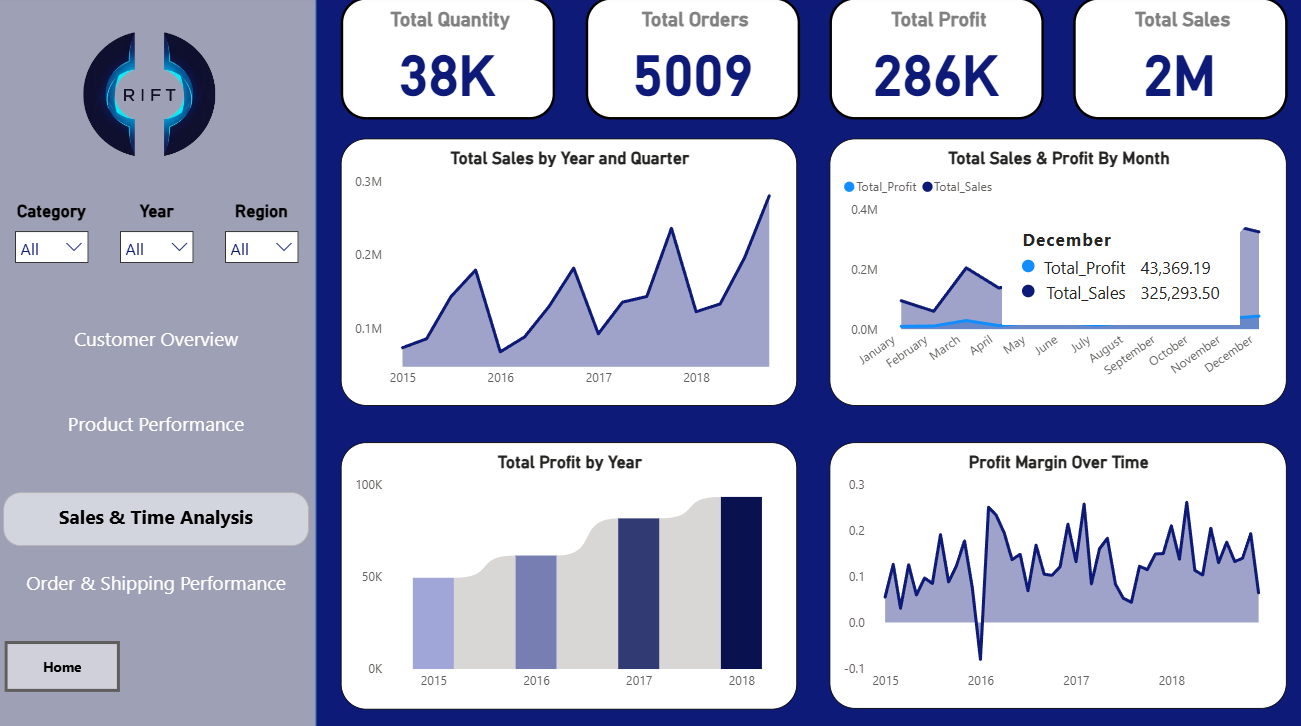

The page's visual inventory and layout, read from the dashboard file:
{"tool":"powerbi","page":{"name":"Sales & Time Analysis","canvas":[1280,720],"ordinal":3},"visuals":[{"type":"shape","box":[0,0,313.8,720],"z":0},{"type":"card","title":"Total Quantity","fields":{"Values":["DAX_Table.Total_QTY"]},"box":[338,1.4,210,120],"z":1000},{"type":"card","title":"Total Orders","fields":{"Values":["DAX_Table.Total_Order"]},"box":[577.6,1.4,210,120],"z":2000},{"type":"card","title":"Total Profit","fields":{"Values":["DAX_Table.Total_Profit"]},"box":[817.1,1.4,210,120],"z":3000},{"type":"card","title":"Total Sales","fields":{"Values":["DAX_Table.Total_Sales"]},"box":[1056.7,1.4,210,120],"z":4000},{"type":"slicer","title":"Year","fields":{"Values":["DateDim.Order Date.Variation.Date Hierarchy.Year"]},"box":[110.5,201.6,92.6,63.2],"z":5000},{"type":"slicer","title":"Category","fields":{"Values":["ProductDim.Category"]},"box":[7.9,201.6,92.1,63.7],"z":6000},{"type":"slicer","title":"Region","fields":{"Values":["CustomerDim.Region"]},"box":[213.7,201.6,92.1,63.2],"z":7000},{"type":"image","box":[18.6,0,262.9,191.4],"z":8000},{"type":"actionButton","box":[7.8,633.3,113.3,50],"z":9000},{"type":"textbox","box":[6.2,318.8,300,52.5],"z":10000},{"type":"textbox","box":[6.2,402.5,300,52.5],"z":11000},{"type":"textbox","box":[6.2,487.5,300,52.5],"z":12000},{"type":"textbox","box":[6.2,558.8,300,52.5],"z":13000},{"type":"areaChart","title":"Total Sales & Profit By Month","fields":{"Y":["DAX_Table.Total_Profit","DAX_Table.Total_Sales"],"Category":["DateDim.Order Date.Variation.Date Hierarchy.Month"]},"box":[817.5,140,448.8,262.5],"z":14000},{"type":"lineChart","title":"Profit Margin Over Time","fields":{"Y":["DAX_Table.Profti_Margin"],"Category":["DateDim.Order Date.Variation.Date Hierarchy.Year","DateDim.Order Date.Variation.Date Hierarchy.Quarter","DateDim.Order Date.Variation.Date Hierarchy.Month"]},"box":[817.1,438.6,448.6,261.4],"z":15000},{"type":"lineChart","title":"Total Sales by Year and Quarter","fields":{"Category":["DateDim.Order Date.Variation.Date Hierarchy.Year","DateDim.Order Date.Variation.Date Hierarchy.Quarter","DateDim.Order Date.Variation.Date Hierarchy.Month","DateDim.Order Date.Variation.Date Hierarchy.Day"],"Y":["DAX_Table.Total_Sales"]},"box":[337.5,140,448,262.5],"z":16000},{"type":"ribbonChart","title":"Total Profit by Year","fields":{"Y":["DAX_Table.Total_Profit"],"Category":["DateDim.Order Date.Variation.Date Hierarchy.Year"]},"box":[337.1,438.6,448,262],"z":17000},{"type":"actionButton","box":[5.7,320,300,51.4],"z":18000},{"type":"actionButton","box":[7.1,402.9,298.6,52.9],"z":19000},{"type":"actionButton","box":[5.7,558.6,300,52.9],"z":20000}]}

Visuals, with their boxes in screenshot pixels (x1, y1, x2, y2), scaled from the page's 1280x720 canvas onto the 1301x726 screenshot:
shape: <bbox>0, 0, 319, 725</bbox>
"Total Quantity" card: <bbox>344, 1, 557, 122</bbox>
"Total Orders" card: <bbox>587, 1, 801, 122</bbox>
"Total Profit" card: <bbox>831, 1, 1044, 122</bbox>
"Total Sales" card: <bbox>1074, 1, 1287, 122</bbox>
"Year" slicer: <bbox>112, 203, 206, 267</bbox>
"Category" slicer: <bbox>8, 203, 102, 268</bbox>
"Region" slicer: <bbox>217, 203, 311, 267</bbox>
image: <bbox>19, 0, 286, 193</bbox>
actionButton: <bbox>8, 639, 123, 689</bbox>
textbox: <bbox>6, 321, 311, 374</bbox>
textbox: <bbox>6, 406, 311, 459</bbox>
textbox: <bbox>6, 492, 311, 544</bbox>
textbox: <bbox>6, 563, 311, 616</bbox>
"Total Sales & Profit By Month" areaChart: <bbox>831, 141, 1287, 406</bbox>
"Profit Margin Over Time" lineChart: <bbox>831, 442, 1286, 706</bbox>
"Total Sales by Year and Quarter" lineChart: <bbox>343, 141, 798, 406</bbox>
"Total Profit by Year" ribbonChart: <bbox>343, 442, 798, 706</bbox>
actionButton: <bbox>6, 323, 311, 374</bbox>
actionButton: <bbox>7, 406, 311, 460</bbox>
actionButton: <bbox>6, 563, 311, 617</bbox>
